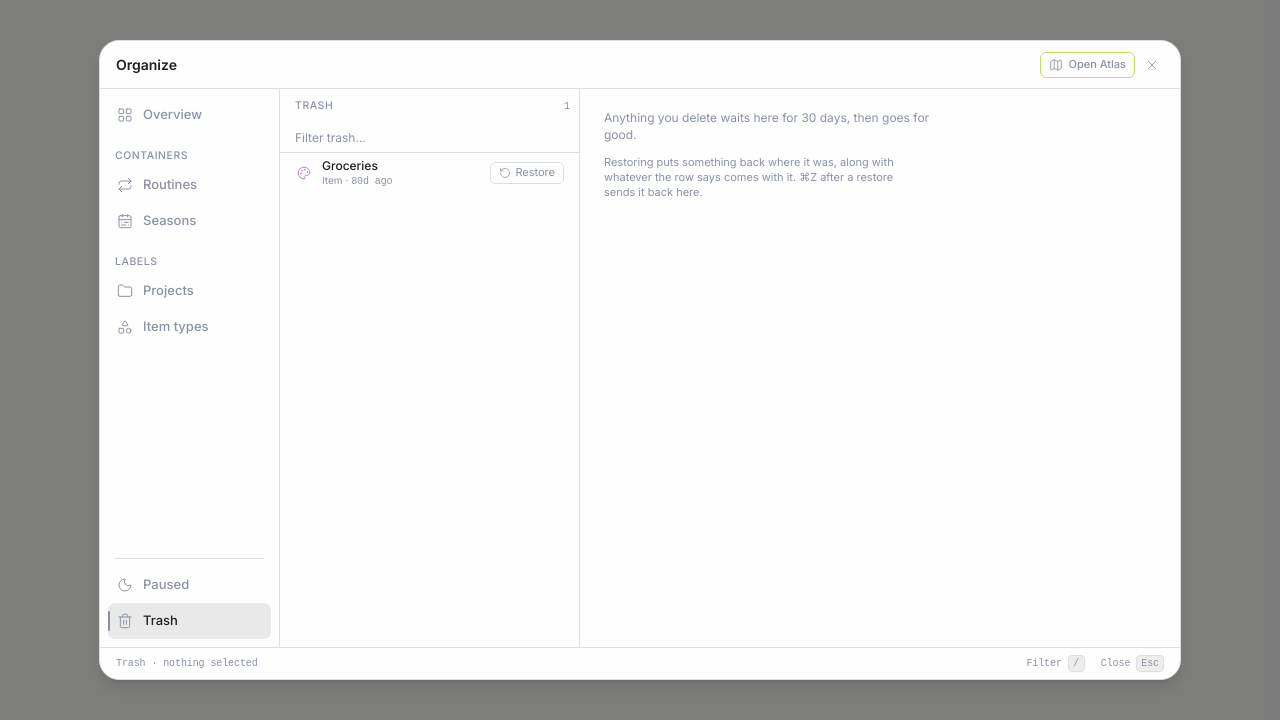
Scenario: the Trash section › still says "nothing matches" when a LOADED bin has no match
The width and height of the screenshot is (1280, 720).
Check: the element with test id "trash-row" is shown, box 288,153 -> 571,192
Step 1. Type "zzz" into the field with test id "trash-filter" → (430, 138), box 291,129 -> 568,146
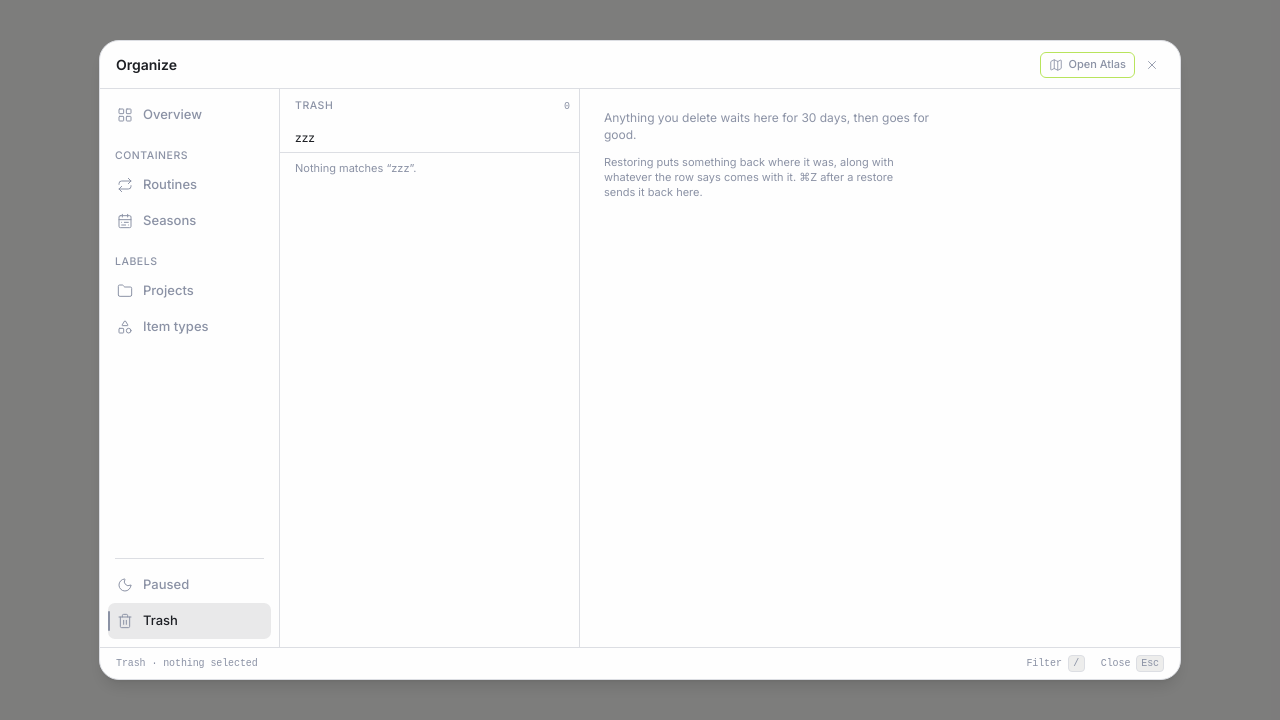
Check: the element with test id "trash-row" is gone
Check: the element with test id "organize-list" shows "Nothing matches", box 295,161 -> 391,175
